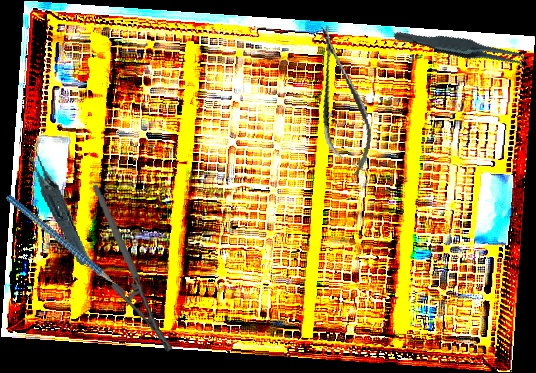Chopper: (5, 163, 141, 327)
Micro Scissor: (304, 21, 380, 180)
Needle Holder: (92, 179, 175, 358)
Tissue Forceps: (392, 3, 533, 95), (28, 136, 91, 271)
